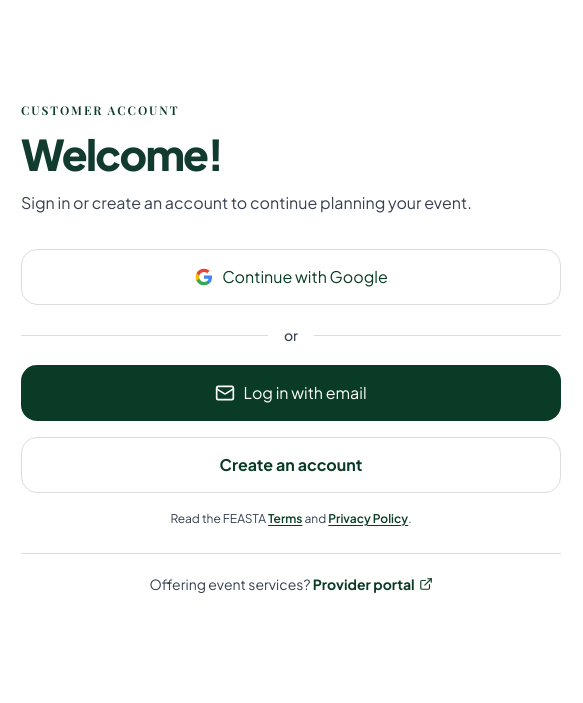
Test: login accessibility › uses visible labels, autocomplete, logical controls, and a linked safe error
Click the button "Log in with email": (291, 393) [21,365,561,421]
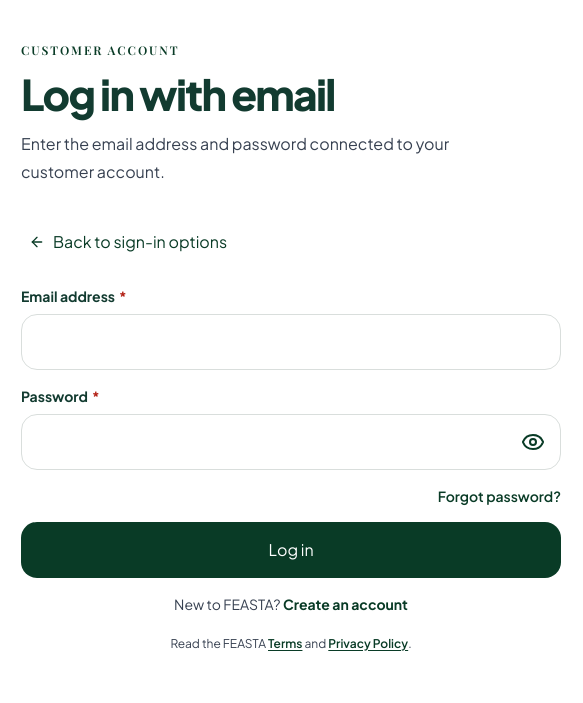
In the field labelled "Email address*": (291, 342) [21,314,561,370], type "customer@feasta.test"
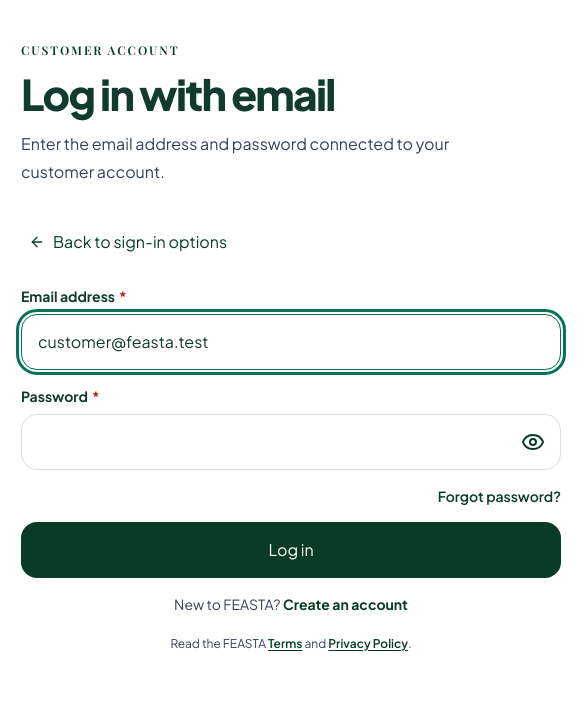
In the password field labelled "Password*": (291, 442) [21,414,561,470], type "not-the-password"
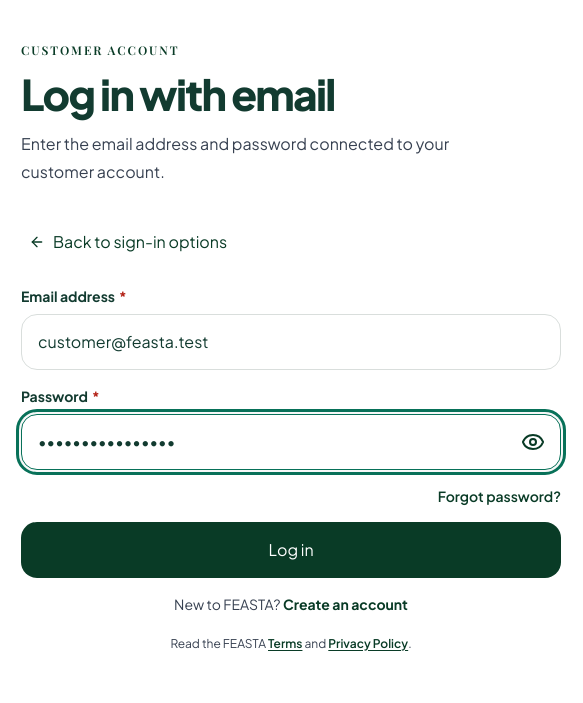
Click the button "Log in": (291, 550) [21,522,561,578]
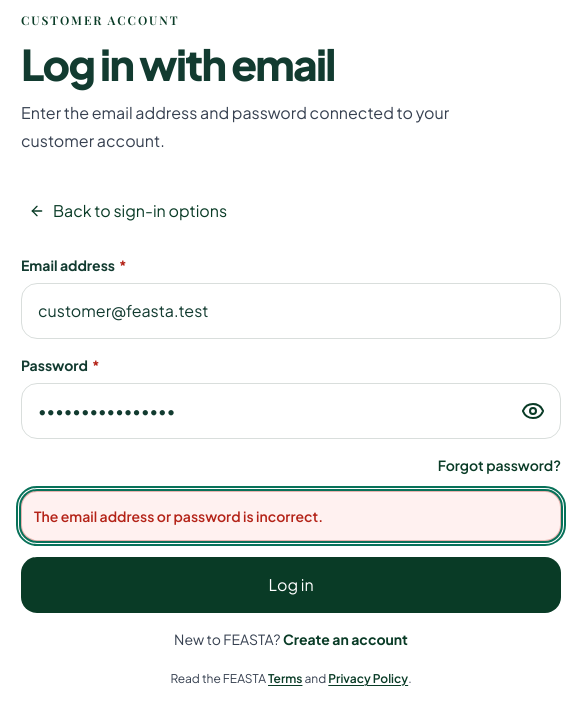
Check: the message reads "The email address or password is incorrect.", box [34,507,323,525]
